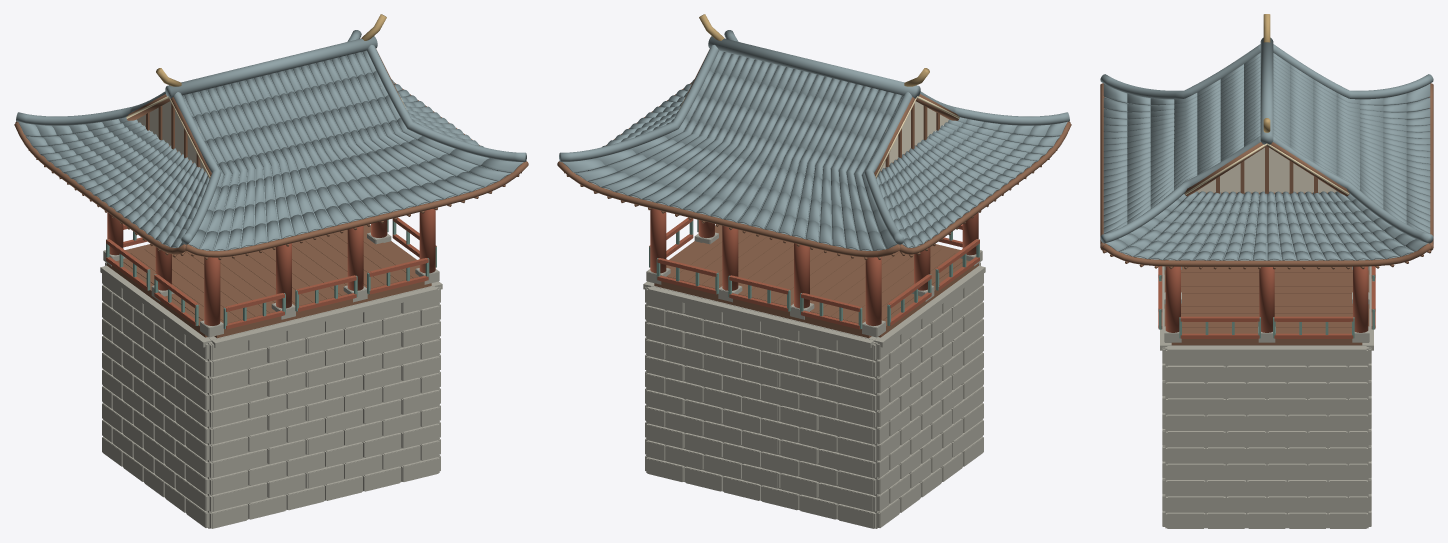
The model's file is Watch_LOD0.fbx.
3 views of the same model, side by side, from view 1: azimuth 30°, elevation 25°; view 2: azimuth 150°, elevation 25°; view 3: azimuth 270°, elevation 25° (orthographic). The views are drawn at different scales.
Visible parts, largest first — view 1: Watch_Detail0_Stone, Watch_Detail0_Roof, Watch_Detail0_Timber, Watch_Detail0_Vermilion, Watch_Detail0_Jade, Watch_Detail0_Plaster; view 2: Watch_Detail0_Stone, Watch_Detail0_Roof, Watch_Detail0_Timber, Watch_Detail0_Vermilion, Watch_Detail0_Jade, Watch_Detail0_Plaster; view 3: Watch_Detail0_Roof, Watch_Detail0_Stone, Watch_Detail0_Timber, Watch_Detail0_Vermilion, Watch_Detail0_Plaster, Watch_Detail0_Jade, Watch_Detail0_PaintIvory.
Part boxes in pixels (x1,y1,x2,y2): Watch_Detail0_Stone: (100, 232, 442, 528); Watch_Detail0_Roof: (16, 30, 526, 250); Watch_Detail0_Timber: (14, 53, 528, 338); Watch_Detail0_Vermilion: (106, 209, 436, 329); Watch_Detail0_Jade: (106, 133, 436, 329); Watch_Detail0_Plaster: (137, 101, 205, 170); Watch_Detail0_Stone: (643, 232, 985, 528); Watch_Detail0_Roof: (559, 30, 1069, 250); Watch_Detail0_Timber: (557, 53, 1071, 338); Watch_Detail0_Vermilion: (649, 209, 979, 329); Watch_Detail0_Jade: (649, 133, 979, 329); Watch_Detail0_Plaster: (880, 101, 948, 170); Watch_Detail0_Roof: (1100, 37, 1433, 260); Watch_Detail0_Stone: (1160, 266, 1373, 528); Watch_Detail0_Timber: (1100, 83, 1433, 345); Watch_Detail0_Vermilion: (1158, 266, 1375, 338); Watch_Detail0_Plaster: (1197, 147, 1336, 192); Watch_Detail0_Jade: (1159, 275, 1374, 338); Watch_Detail0_PaintIvory: (1185, 143, 1348, 194).
Size of the model in its own units: 14.44 by 16.82 by 12.44.
